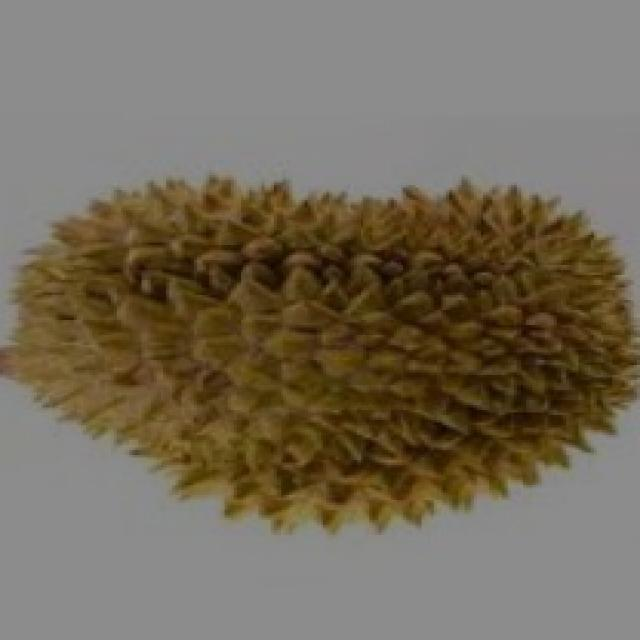fruit: (0, 150, 366, 600), (283, 160, 640, 595)
